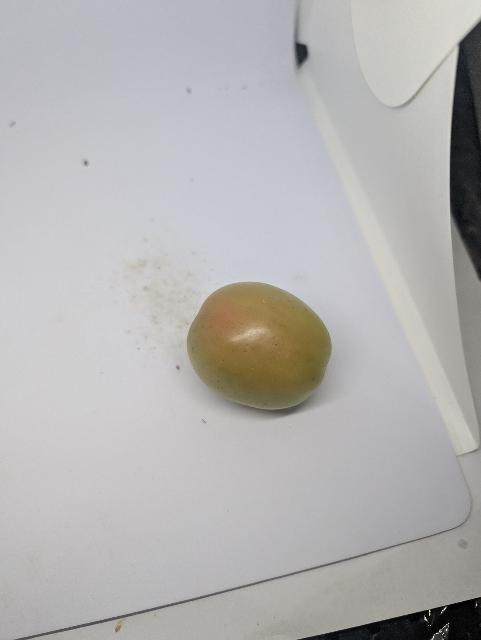turning: (183, 276, 355, 424)
